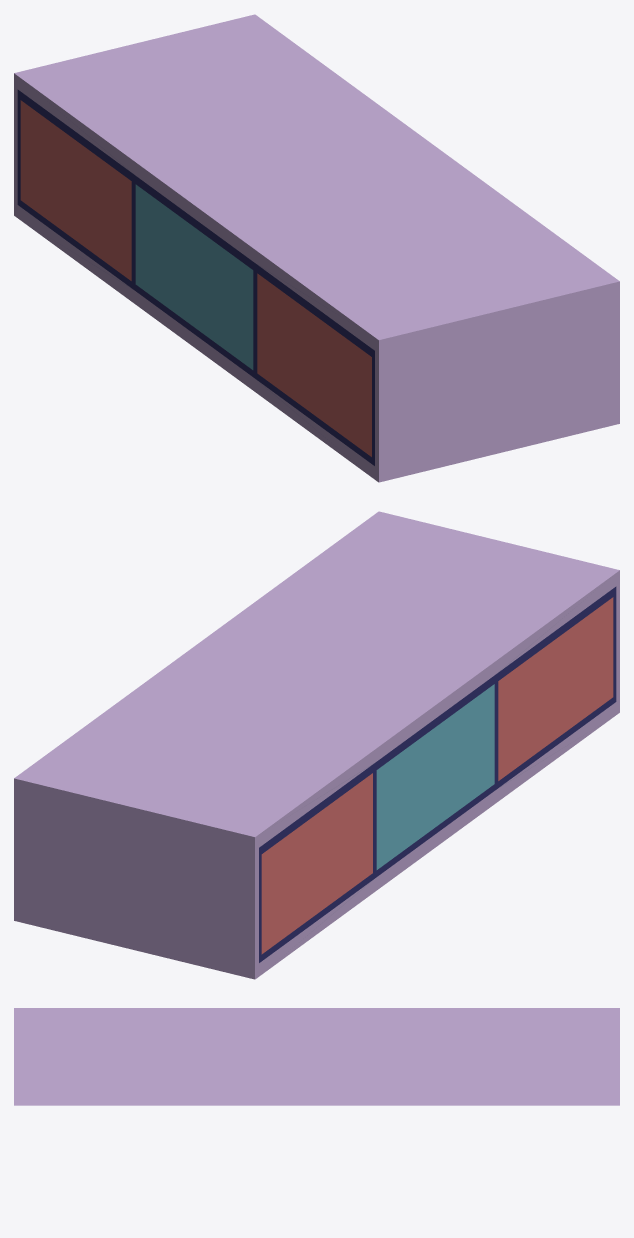
3 renders of one model, top to bottom at view 1: azimuth 30°, elevation 25°; view 2: azimuth 150°, elevation 25°; view 3: azimuth 270°, elevation 25°, orthographic. The views are drawn at different scales.
Visible parts, largest first — view 1: Joint_0_Object_0; view 2: Joint_0_Object_0; view 3: Joint_0_Object_0.
Part boxes in pixels (box(x1,y1,x2,y2)): Joint_0_Object_0: box(14, 14, 619, 482); Joint_0_Object_0: box(14, 511, 619, 979); Joint_0_Object_0: box(14, 1008, 619, 1105).
Bounding box in the file's own units: 1326 × 748 × 3475.
